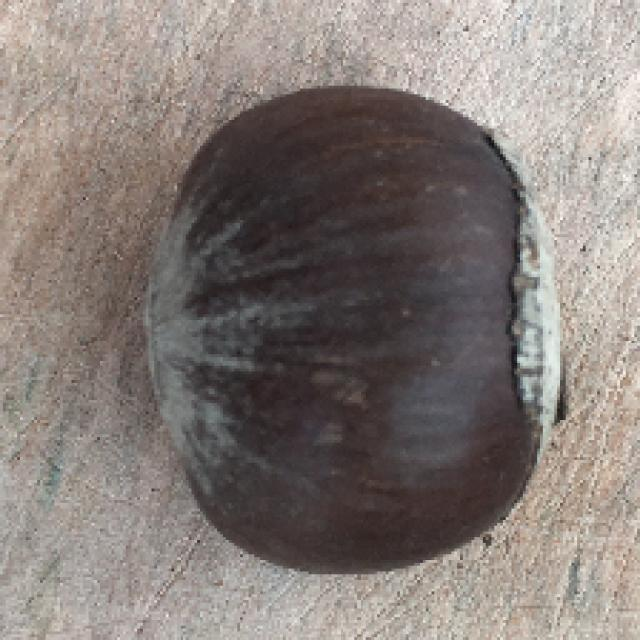damagedHazelnut: (139, 80, 563, 578)
